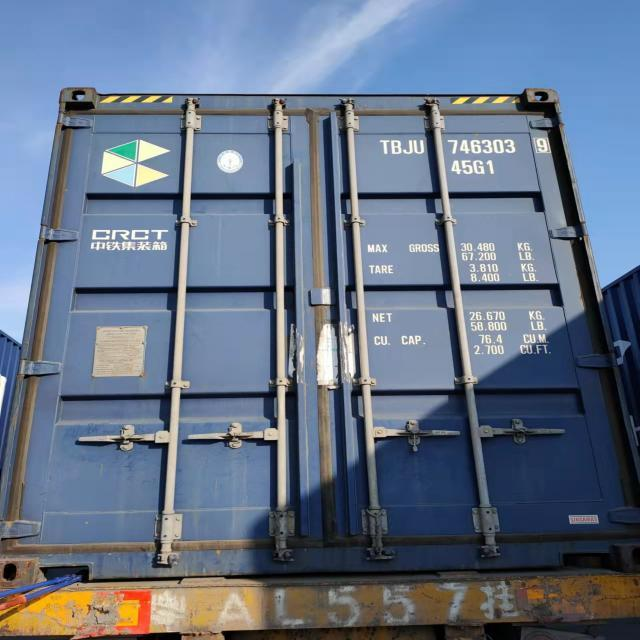ISO: (450, 158, 496, 178)
container_number: (382, 138, 558, 156)
